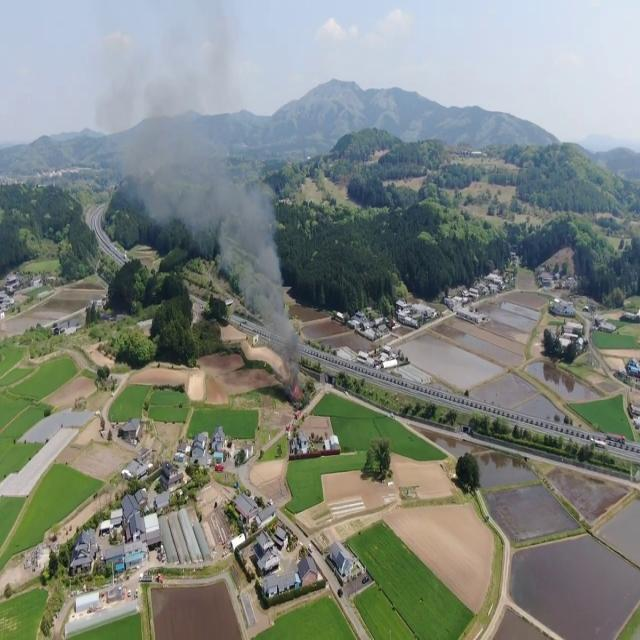Smoke: (195, 132, 300, 354)
